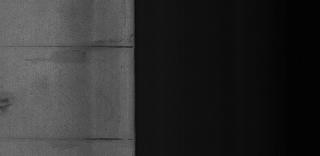scratches: (8, 128, 134, 146), (6, 40, 136, 54)
